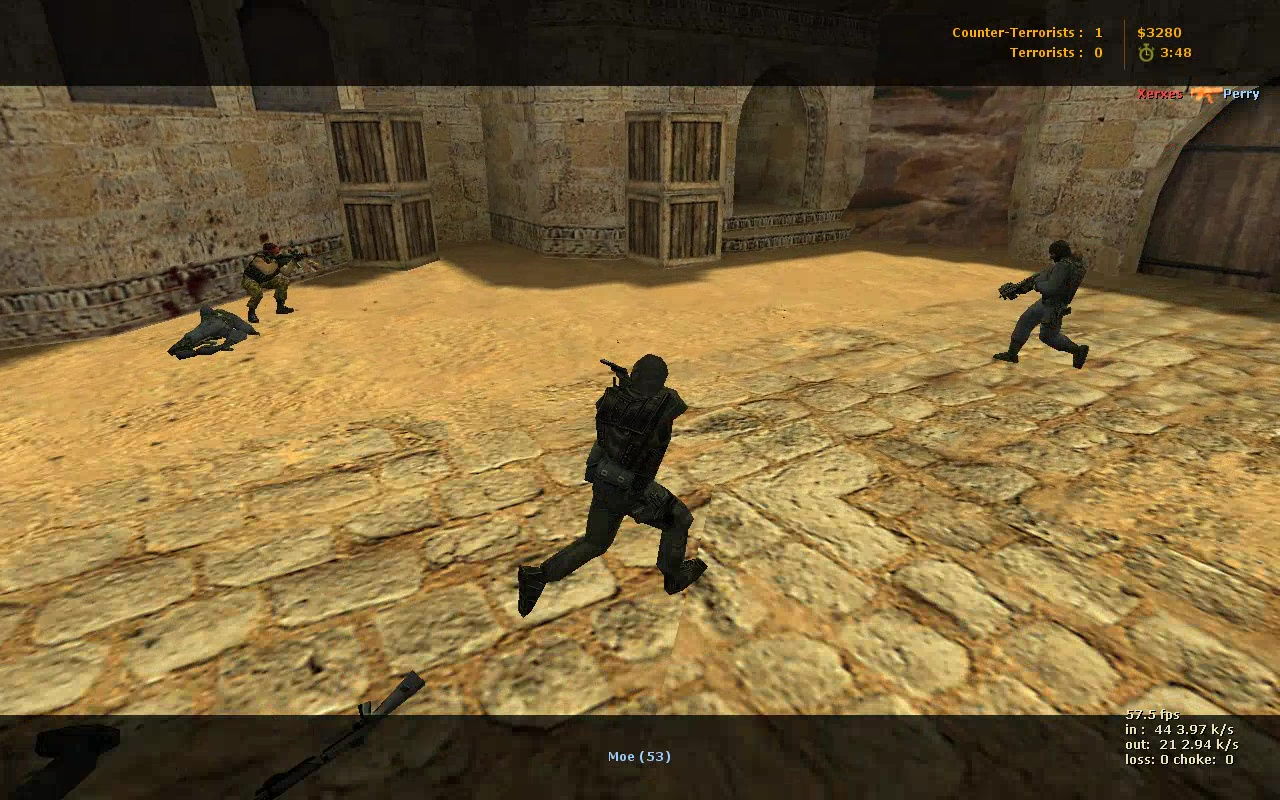ct: (511, 350, 705, 614), (998, 234, 1093, 384)
dead: (173, 309, 246, 355)
terr1: (242, 241, 303, 321)
